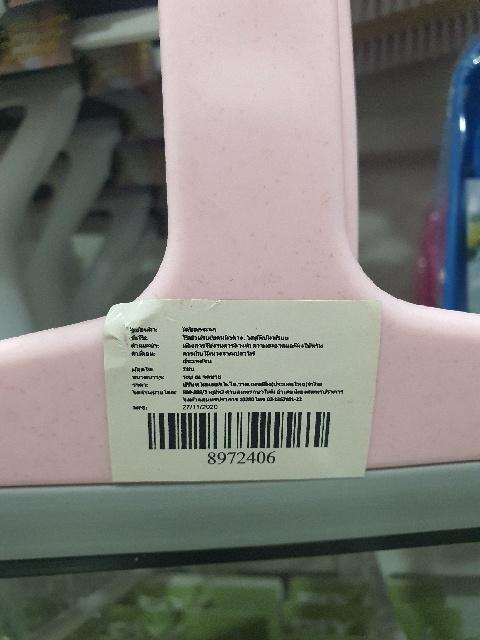Barcode: (138, 406, 345, 466)
